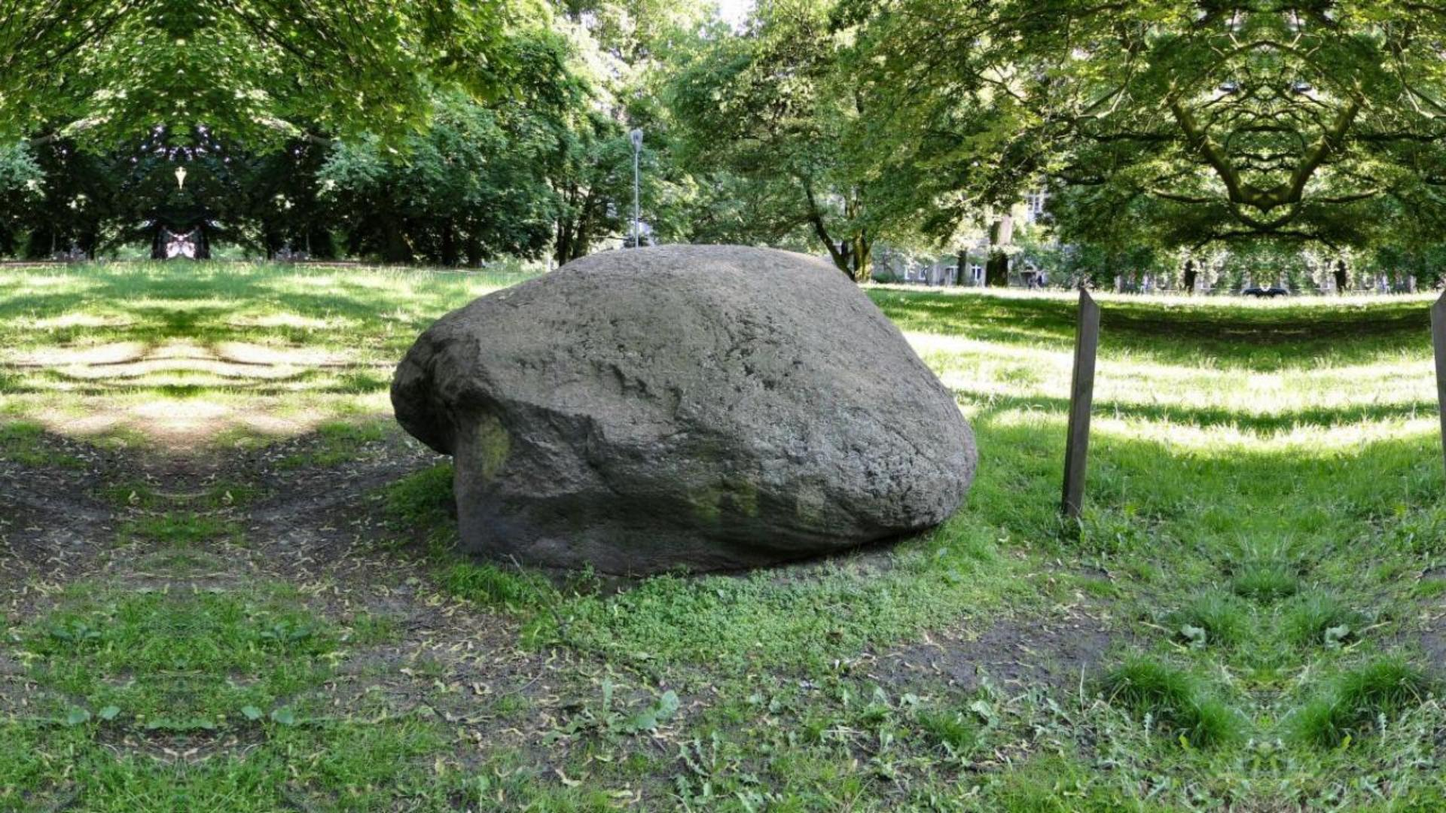rock: (392, 245, 976, 574)
